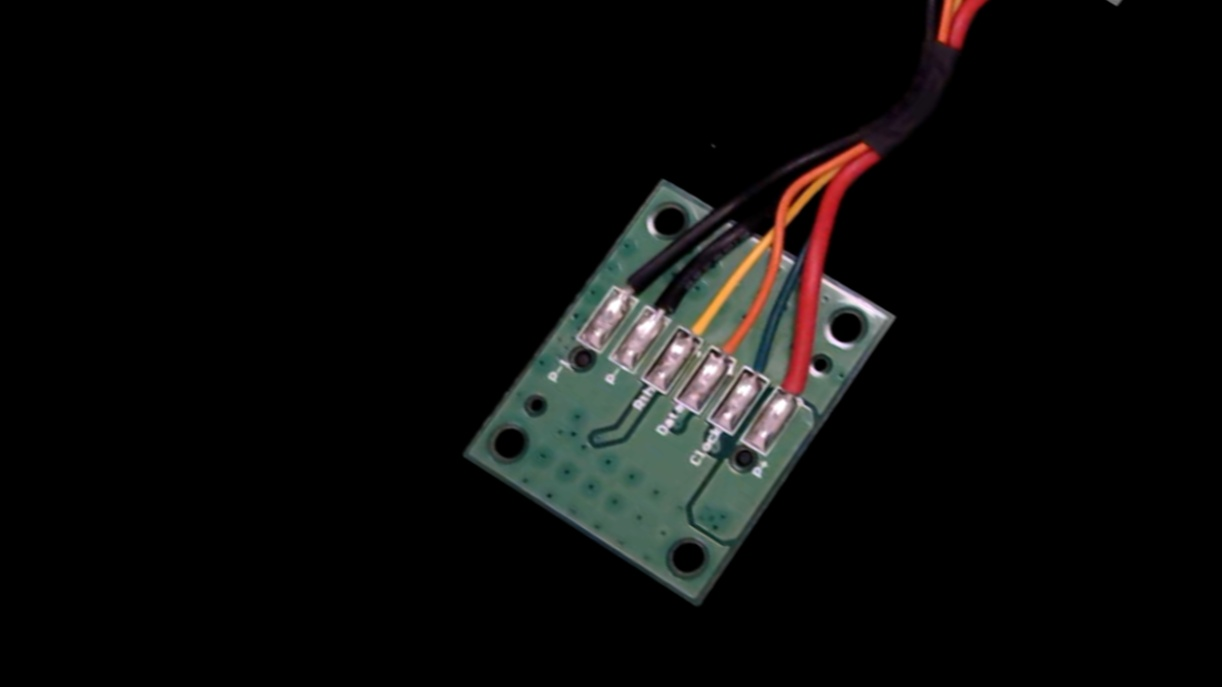Black: (634, 258, 710, 337)
Black1: (600, 240, 672, 314)
Green: (729, 332, 794, 399)
Orange: (698, 299, 771, 377)
Red: (764, 342, 838, 420)
Yellow: (666, 277, 743, 358)
